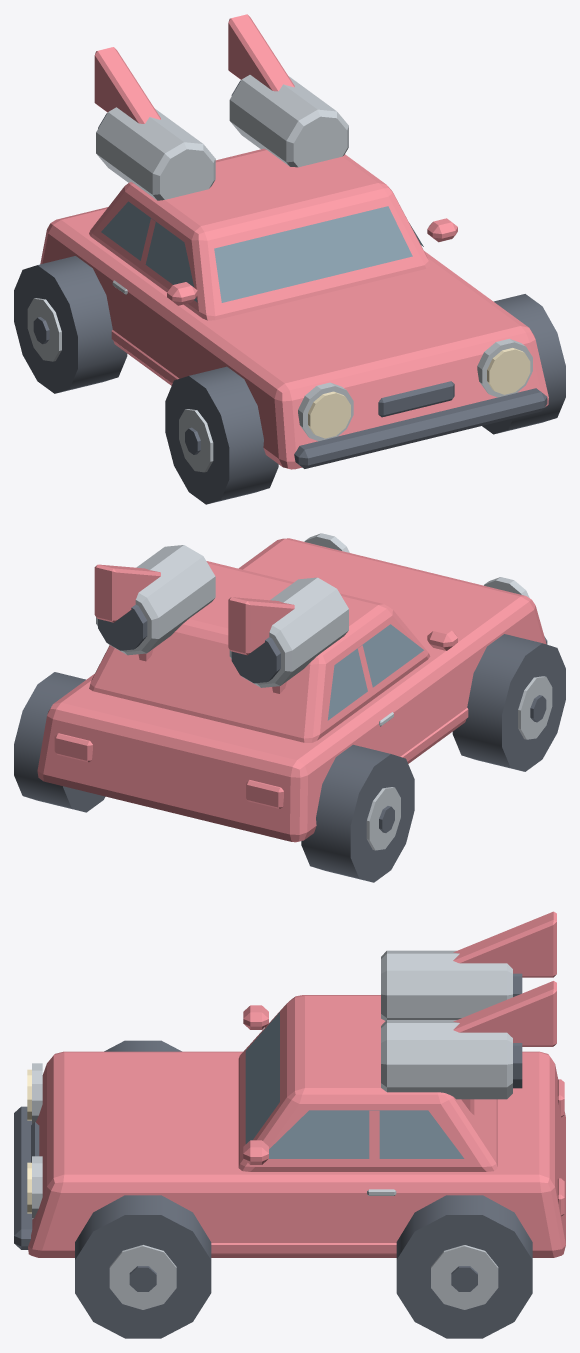
The model's file is rocket_car.glb.
The picture shows the model from 3 angles, top to bottom: view 1: azimuth 30°, elevation 25°; view 2: azimuth 150°, elevation 25°; view 3: azimuth 270°, elevation 25°; orthographic projection. The views are drawn at different scales.
Parts seen in each view (by area): view 1: rocket_car_red, rocket_car_black.001, rocket_car_gray.001, rocket_car_glass.001, rocket_car_yellow.001; view 2: rocket_car_red, rocket_car_black.001, rocket_car_gray.001, rocket_car_glass.001; view 3: rocket_car_red, rocket_car_black.001, rocket_car_gray.001, rocket_car_glass.001.
Part boxes in pixels (box(x1,y1,x2,y2)): rocket_car_red: box(40, 14, 548, 469); rocket_car_black.001: box(14, 80, 565, 504); rocket_car_gray.001: box(27, 75, 532, 472); rocket_car_glass.001: box(101, 201, 423, 302); rocket_car_yellow.001: box(308, 348, 530, 438); rocket_car_red: box(37, 538, 546, 842); rocket_car_black.001: box(14, 604, 565, 882); rocket_car_gray.001: box(96, 533, 552, 850); rocket_car_glass.001: box(327, 624, 423, 720); rocket_car_red: box(28, 911, 565, 1257); rocket_car_black.001: box(14, 973, 532, 1338); rocket_car_gray.001: box(32, 950, 512, 1309); rocket_car_glass.001: box(245, 1012, 464, 1158).
Size of the model in its own units: 4.12 by 3.2 by 5.32.
